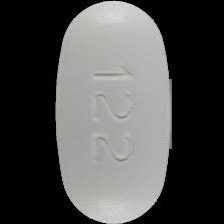33358-187: (0, 0, 224, 224)
